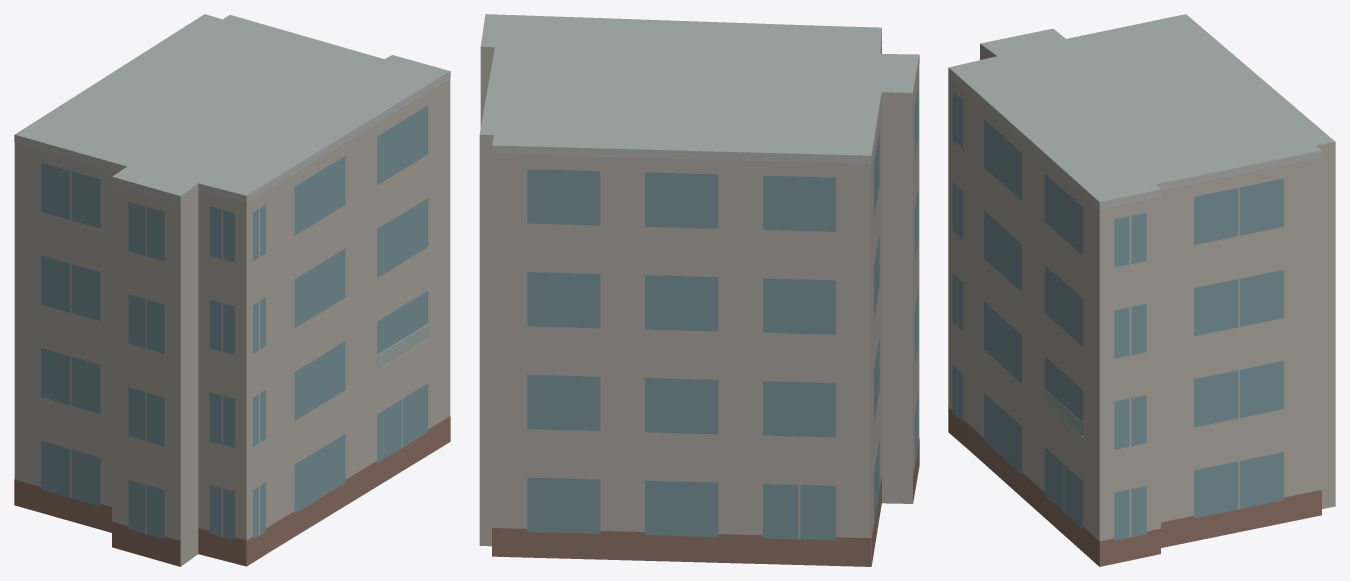
The model's file is survey-upis-32912792.glb.
The picture shows the model from 3 angles, left to right: view 1: azimuth 30°, elevation 25°; view 2: azimuth 150°, elevation 25°; view 3: azimuth 270°, elevation 25°; orthographic projection. The views are drawn at different scales.
Parts seen in each view (by area): view 1: survey-upis-32912792.tmp; view 2: survey-upis-32912792.tmp; view 3: survey-upis-32912792.tmp.
Boxes of the visible parts, x1,y1,x2,y2 form: survey-upis-32912792.tmp: [14, 14, 450, 566]; survey-upis-32912792.tmp: [479, 14, 919, 566]; survey-upis-32912792.tmp: [948, 14, 1335, 566].
Bounding box in the file's own units: 13.51 × 12.2 × 11.75.
